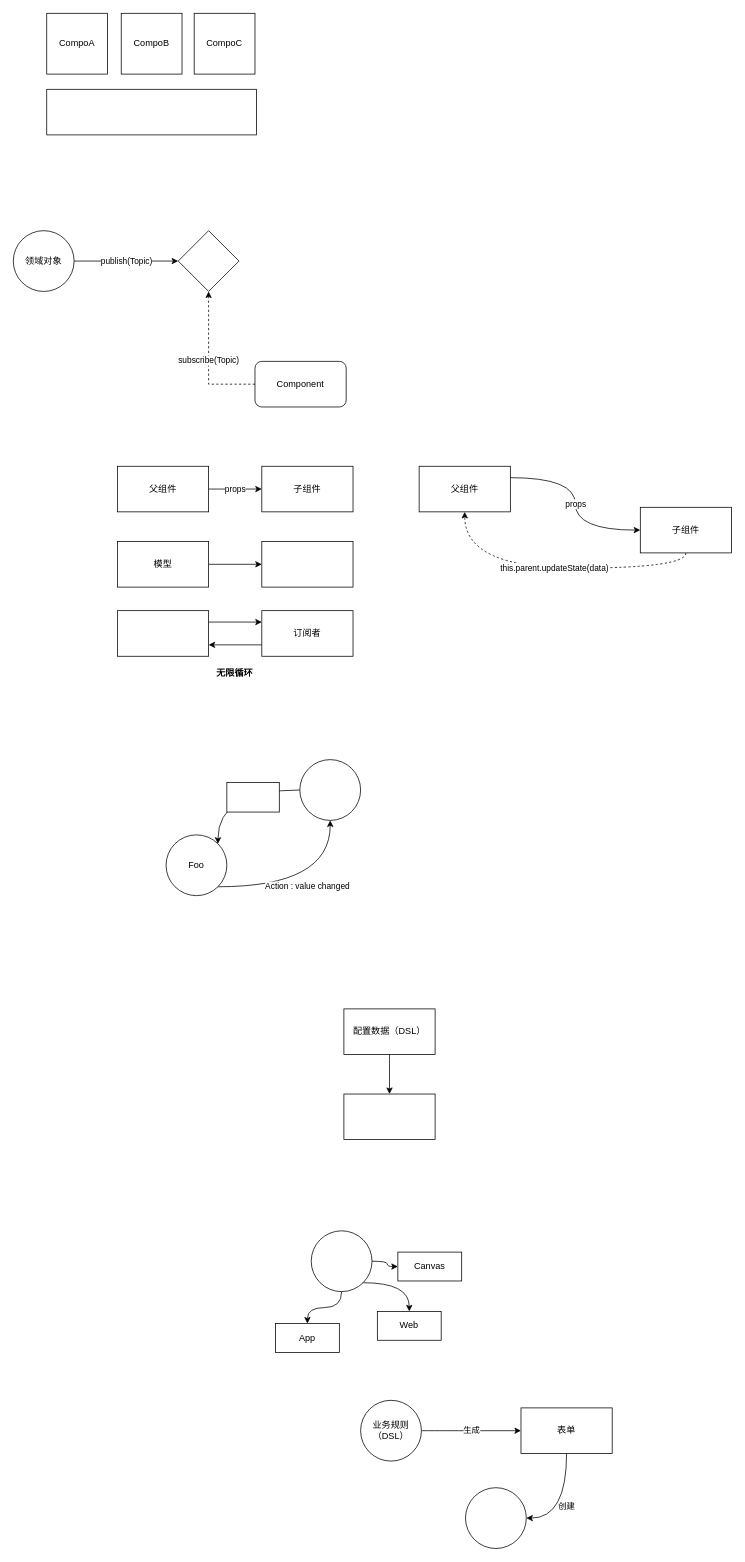
This 745x1562 diagram has some shape labels left out. The shapes that lost their labels are listed below. From the top down, each one's box as (x1, y1, x2, y2) in pixels, then its label:
(46, 89, 256, 135): Event Bus
(177, 230, 239, 291): Emiter
(261, 541, 353, 587): 视图
(117, 610, 209, 656): 发布者
(226, 782, 279, 812): newState
(299, 759, 361, 820): Store
(343, 1093, 435, 1140): 实例数据
(310, 1230, 372, 1292): Virtual DOM(Node)
(465, 1487, 526, 1548): 活动
